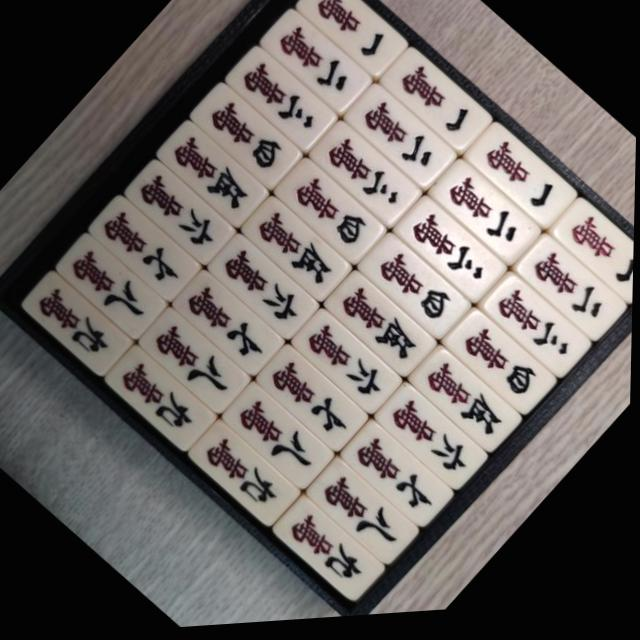sc1: (468, 129, 574, 235), (385, 54, 487, 158), (553, 205, 636, 313), (298, 0, 403, 82)
sc2: (348, 89, 453, 195), (519, 242, 624, 347), (435, 168, 536, 269), (266, 16, 367, 117)
sc3: (397, 202, 503, 309), (228, 48, 334, 155), (485, 280, 590, 386), (312, 126, 417, 231)
sc4: (448, 316, 555, 423), (363, 239, 469, 346), (193, 86, 298, 192), (277, 162, 382, 267)
sc5: (328, 275, 434, 383), (414, 353, 520, 460), (159, 124, 265, 230), (243, 200, 347, 304)
sc6: (378, 389, 485, 497), (294, 313, 401, 421), (210, 237, 317, 345), (127, 162, 230, 266)
sc7: (344, 426, 451, 534), (259, 349, 365, 456), (174, 273, 280, 380), (91, 198, 196, 303)
sc8: (309, 461, 419, 572), (223, 385, 333, 494), (140, 310, 248, 417), (57, 235, 164, 342)
sc9: (192, 422, 299, 530), (276, 500, 383, 606), (109, 349, 214, 454), (24, 272, 129, 377)
